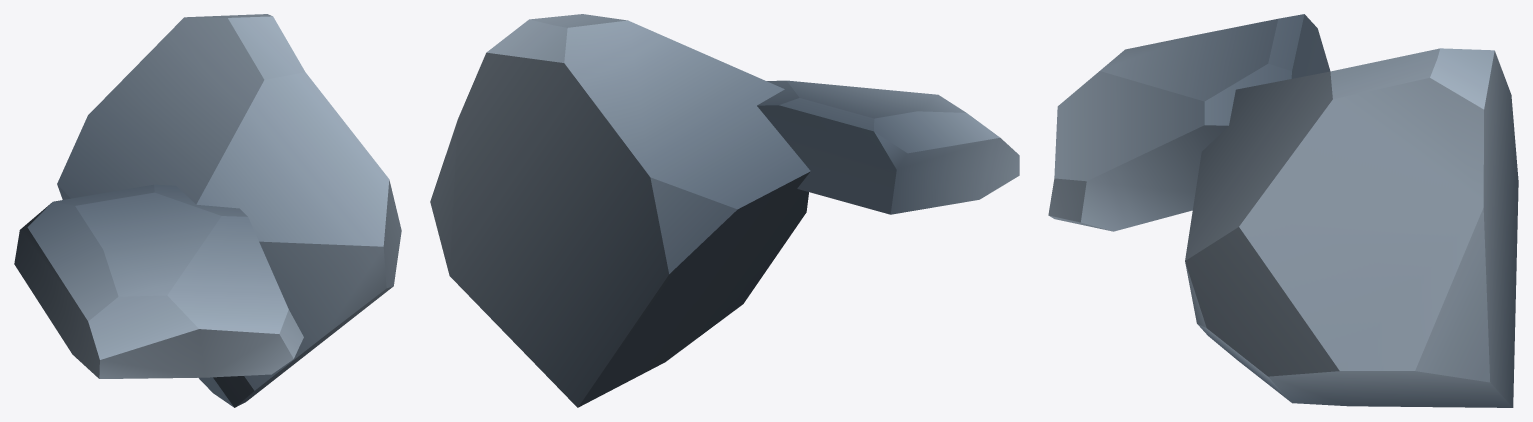
The model's file is rock_v2.fbx.
3 views of the same model, side by side, from view 1: azimuth 30°, elevation 25°; view 2: azimuth 150°, elevation 25°; view 3: azimuth 270°, elevation 25° (orthographic). The views are drawn at different scales.
Visible parts, largest first — view 1: polySurface139, polySurface138; view 2: polySurface139, polySurface138; view 3: polySurface139, polySurface138.
Part boxes in pixels (<box>): polySurface139: <box>57,14,401,407</box>; polySurface138: <box>14,184,303,378</box>; polySurface139: <box>430,14,810,407</box>; polySurface138: <box>757,80,1019,214</box>; polySurface139: <box>1185,48,1518,407</box>; polySurface138: <box>1048,14,1330,231</box>.
Size of the model in its own units: 83.8 by 63.47 by 69.63.
